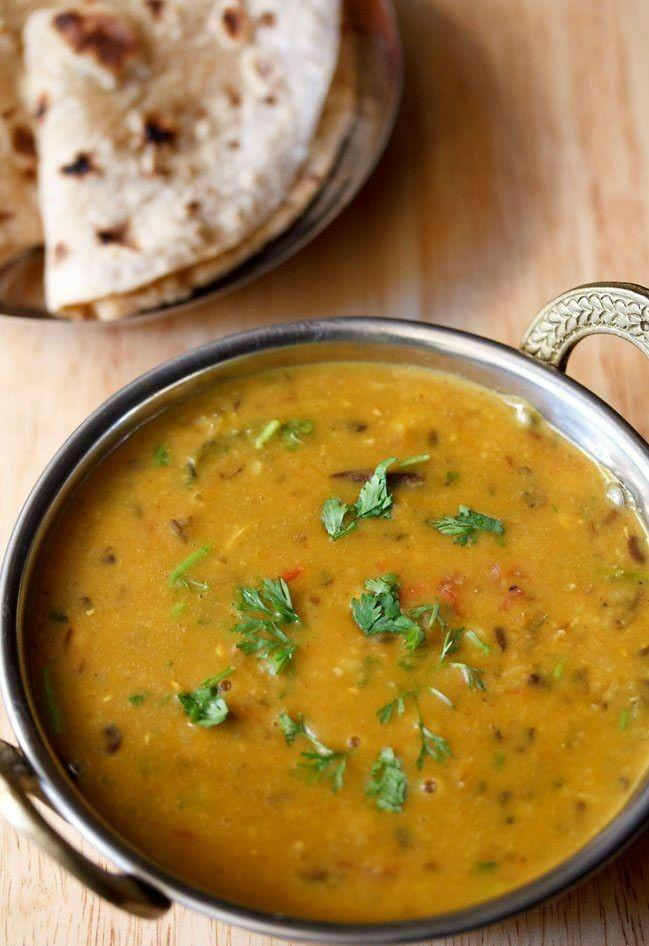Dal: (31, 358, 649, 937)
